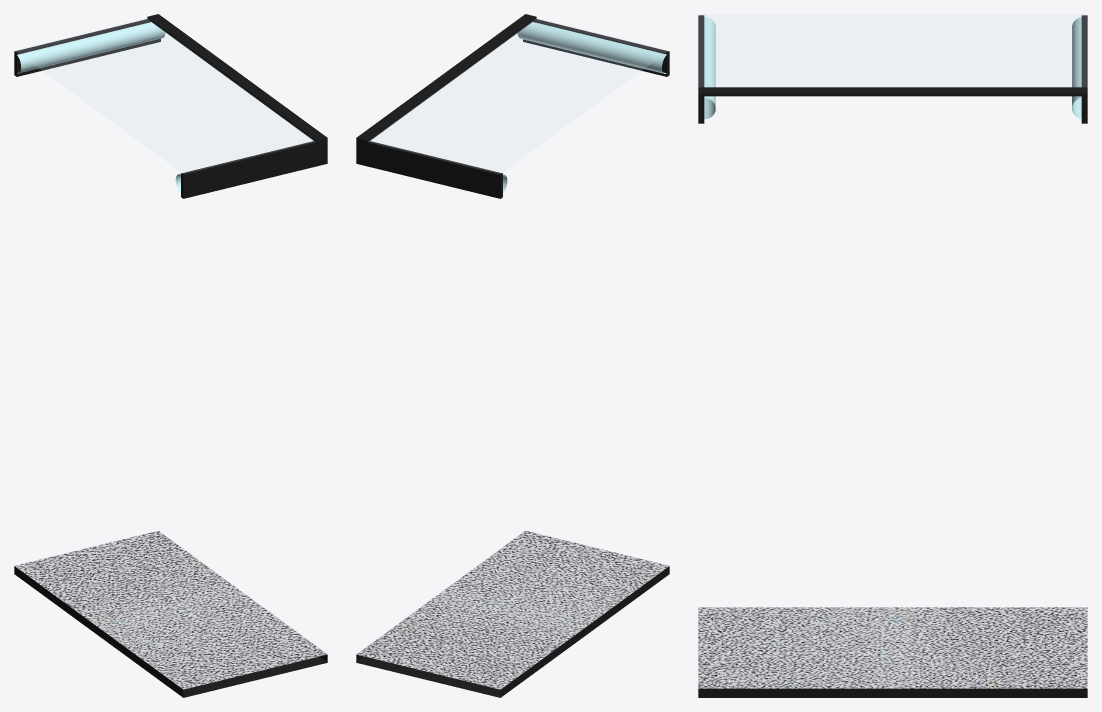
The model's file is ltd_60.obj.
The picture shows the model from 3 angles, left to right: view 1: azimuth 30°, elevation 25°; view 2: azimuth 150°, elevation 25°; view 3: azimuth 270°, elevation 25°; orthographic projection. The views are drawn at different scales.
Parts seen in each view (by area): view 1: Box001, Plane001, Box267, ltd_deng, Box226, Box266; view 2: Box001, Plane001, Box266, ltd_deng, Box226, Box267; view 3: Box001, Plane001, Box226, ltd_deng, Box267, Box266.
Part boxes in pixels (x1,y1,x2,y2): Box001: (14,530,327,697); Plane001: (15,18,315,173); Box267: (181,140,327,198); ltd_deng: (17,22,180,192); Box226: (147,14,327,142); Box266: (14,19,160,76); Box001: (356,530,669,697); Plane001: (368,18,668,173); Box266: (356,140,502,198); ltd_deng: (503,22,666,192); Box226: (356,14,536,142); Box267: (523,19,669,76); Box001: (698,607,1087,697); Plane001: (699,14,1086,86); Box226: (698,87,1087,96); ltd_deng: (704,17,1081,119); Box267: (698,15,704,123); Box266: (1081,15,1087,123).
Size of the model in its own units: 64 by 222 by 130.
Materials: 4 (1 with a texture image).
